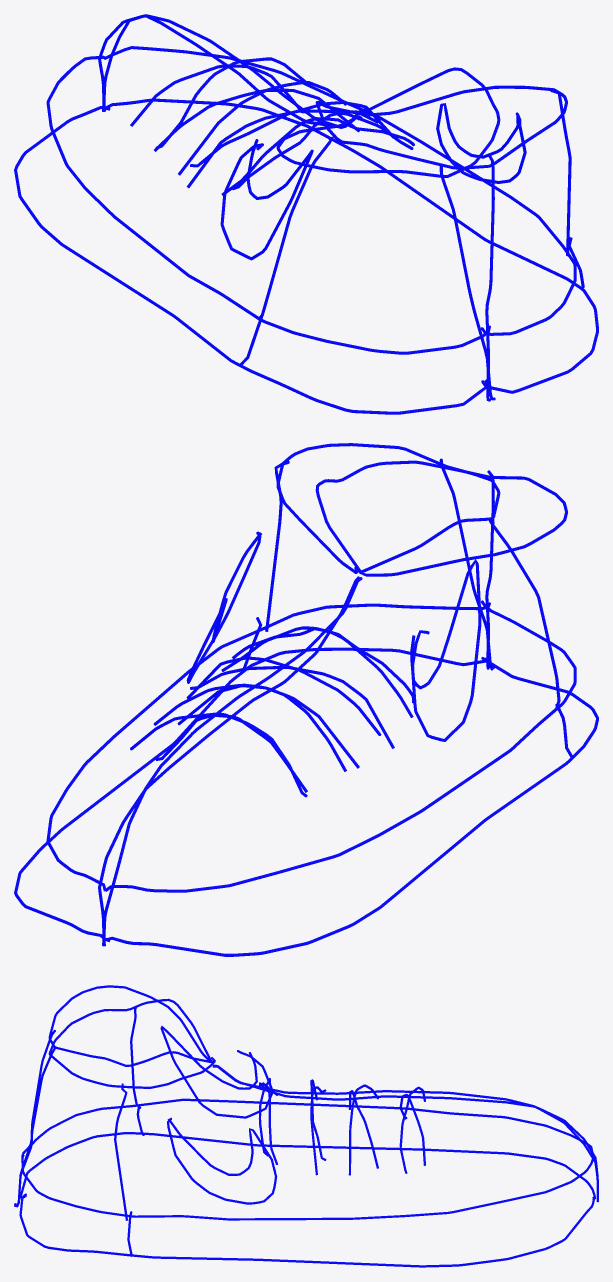
The model's file is cassie_p9_shoe.glb.
The picture shows the model from 3 angles, top to bottom: view 1: azimuth 30°, elevation 25°; view 2: azimuth 150°, elevation 25°; view 3: azimuth 270°, elevation 25°; orthographic projection. The views are drawn at different scales.
Parts seen in each view (by area): view 1: cassie_p9_shoe; view 2: cassie_p9_shoe; view 3: cassie_p9_shoe.
Part boxes in pixels (box(x1,y1,x2,y2)): cassie_p9_shoe: box(14, 14, 598, 414); cassie_p9_shoe: box(14, 443, 598, 956); cassie_p9_shoe: box(14, 985, 598, 1267).
Size of the model in its own units: 0.5058 by 0.3484 by 1.
